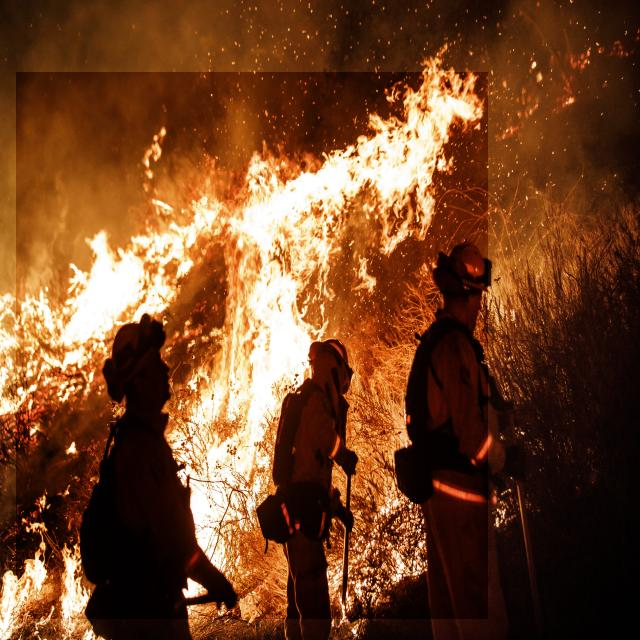Fire: (16, 72, 488, 619)
